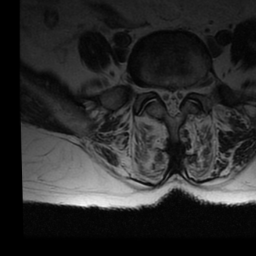CCS_normal: (168, 79, 177, 124)
LFS_normal: (185, 75, 195, 102)
LLS_normal: (176, 79, 185, 114)
RFS_stenosis: (149, 75, 159, 101)
RLS_normal: (159, 76, 169, 115)
